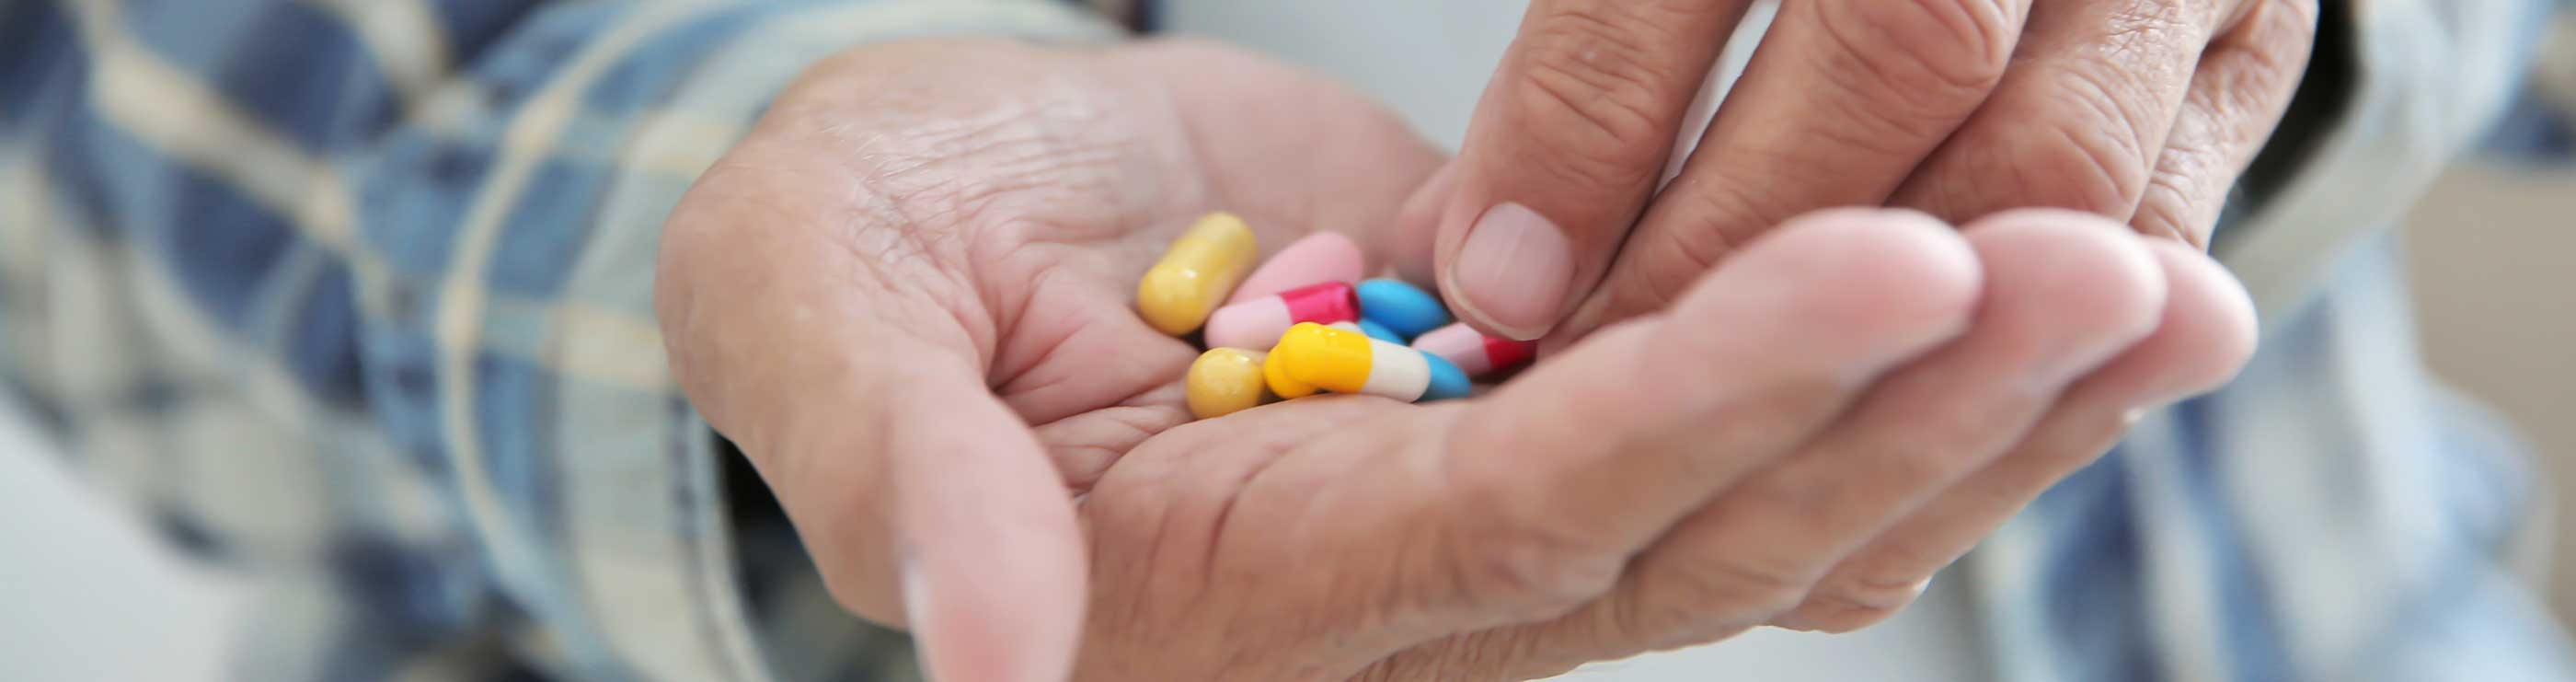pills: (1145, 212, 1263, 355), (1290, 319, 1454, 408), (1194, 335, 1270, 416)
